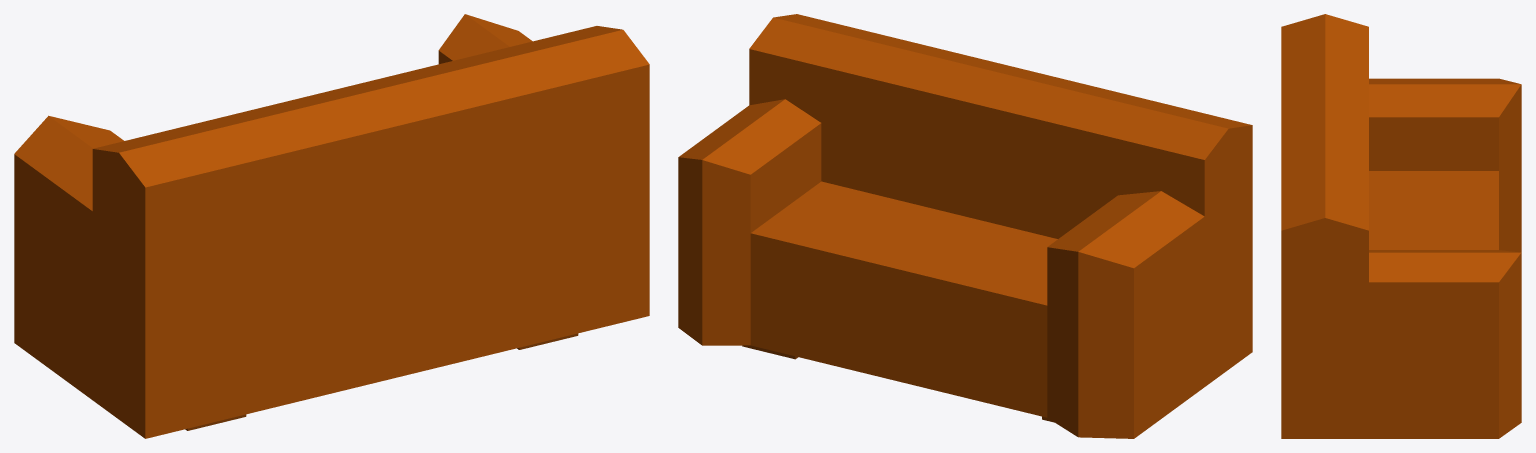
File: sohva_oragne.FBX
3 views of the same model, side by side, from view 1: azimuth 30°, elevation 25°; view 2: azimuth 150°, elevation 25°; view 3: azimuth 270°, elevation 25° (orthographic). The views are drawn at different scales.
Parts seen in each view (by area): view 1: sohva_orange; view 2: sohva_orange; view 3: sohva_orange.
Boxes of the visible parts, bbox=[...] form: sohva_orange: bbox=[14, 14, 649, 438]; sohva_orange: bbox=[678, 14, 1252, 438]; sohva_orange: bbox=[1281, 14, 1521, 438].
Bounding box in the file's own units: 322 × 174 × 160.
